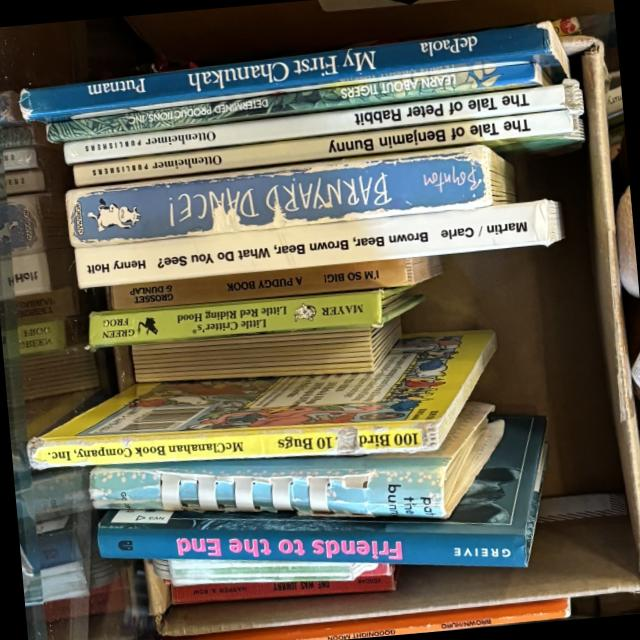book: (19, 327, 504, 485), (96, 415, 545, 567), (16, 20, 569, 125), (86, 400, 506, 529), (63, 142, 516, 248), (61, 77, 583, 164), (71, 108, 585, 196), (72, 198, 563, 289), (85, 285, 424, 348), (109, 255, 442, 312), (168, 563, 397, 606), (86, 460, 147, 510)
